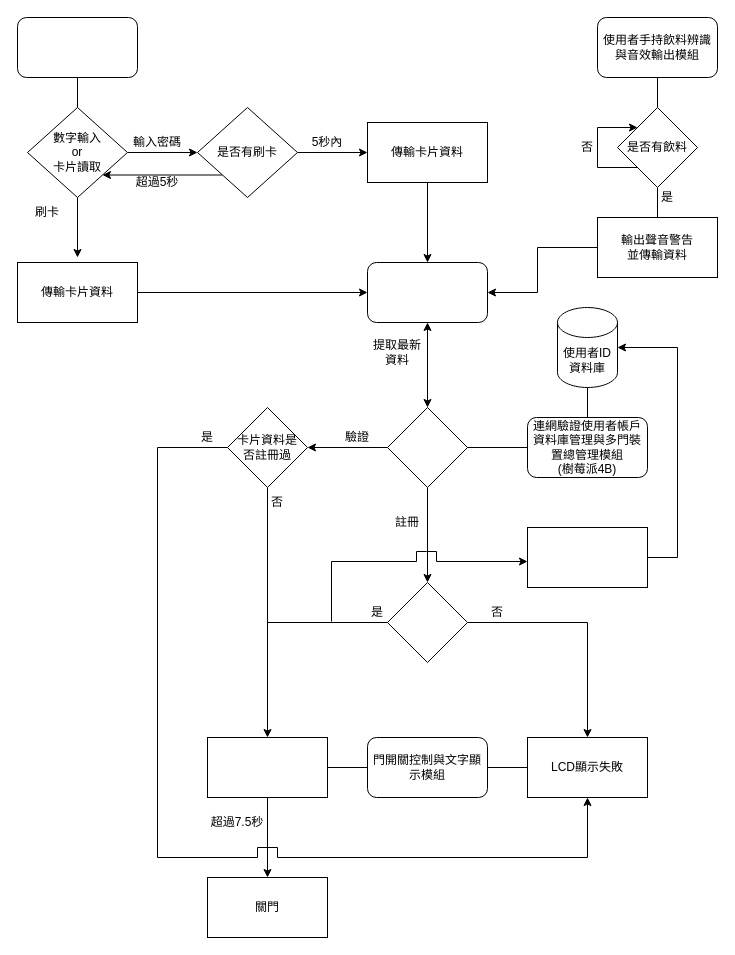
Some shapes in this 735 by 955 pixel diagram are drawn without their labels. Each missing label, with the centre of its shape:
LCD顯示成功 並且開門: point 267,767
使用者輸入與 連網傳輸模組: point 77,47
存入使用者資料: point 587,557
是否 有註冊過: point 427,622
系統內網中央基地台與伺服器模組: point 427,292
註冊/驗證: point 427,447
